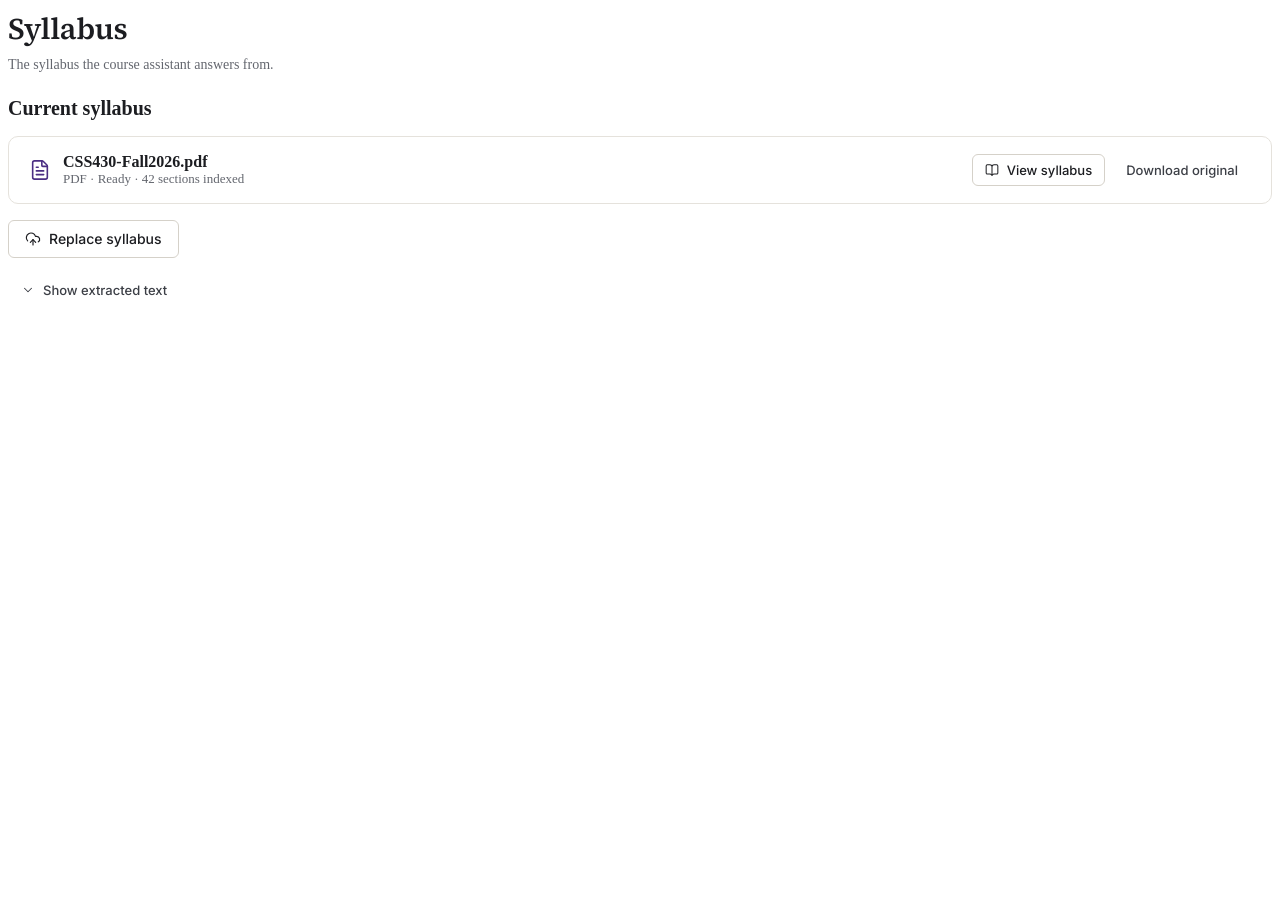
Test: ProfessorSyllabusPage › keeps the extracted text collapsed until opened, then shows it in a bounded box
This screenshot has width=1280, height=900.
Click the button "Show extracted text" at (94, 290), box x1=8 y1=274 x2=180 y2=306
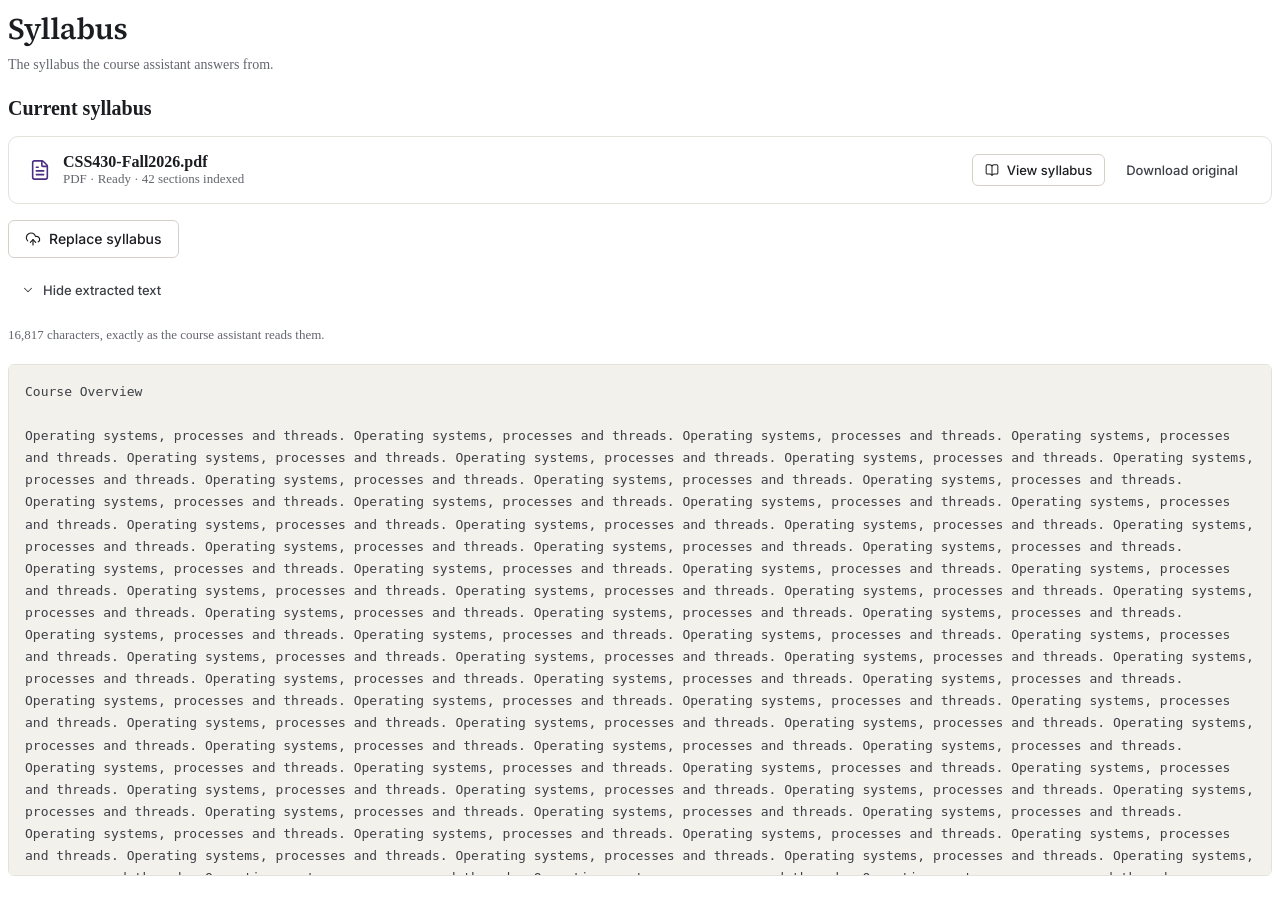
Now the button "Hide extracted text" is expanded
Click the button "Hide extracted text" at (91, 290), box x1=8 y1=274 x2=174 y2=306
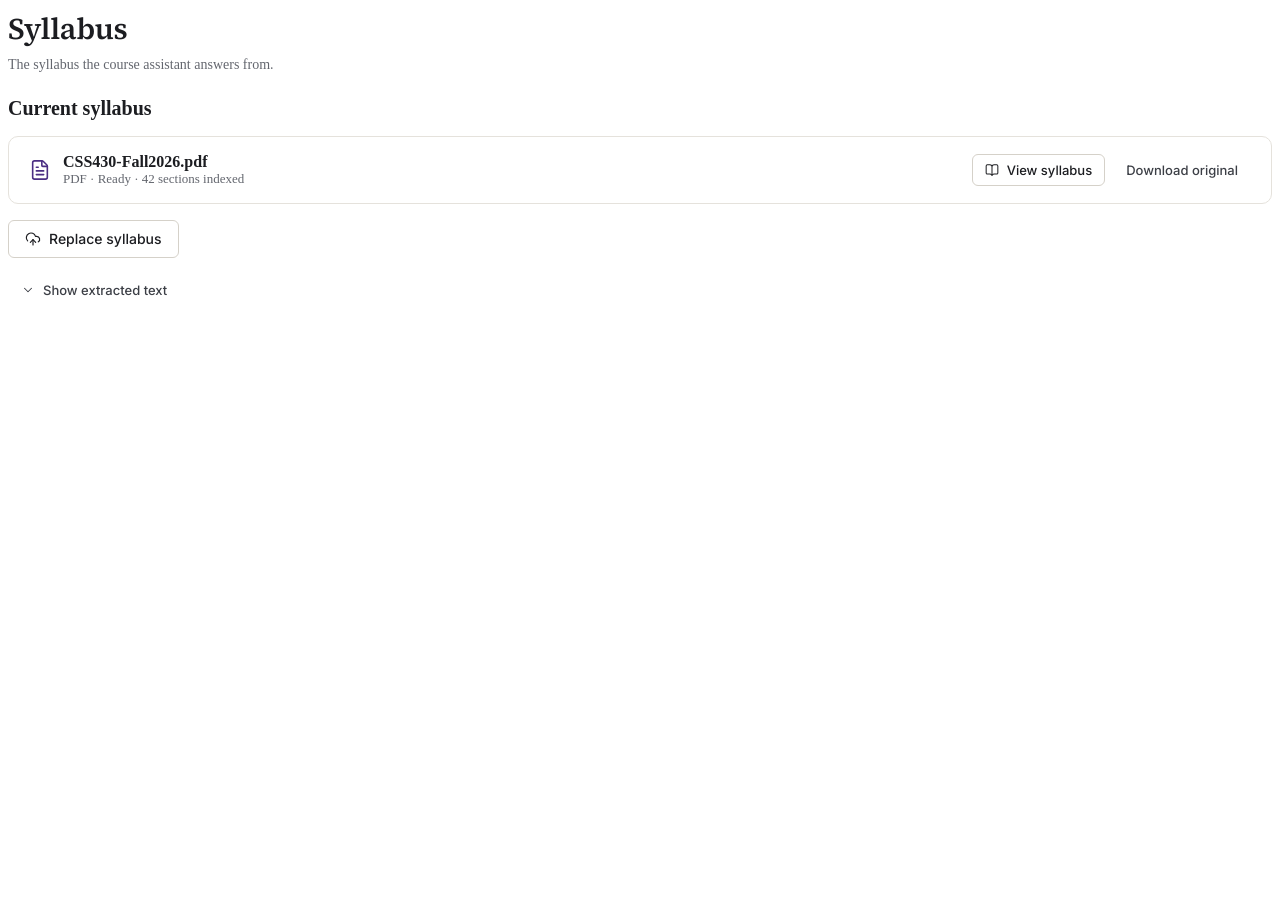
Now the text with test id "extracted-syllabus-text" is gone
